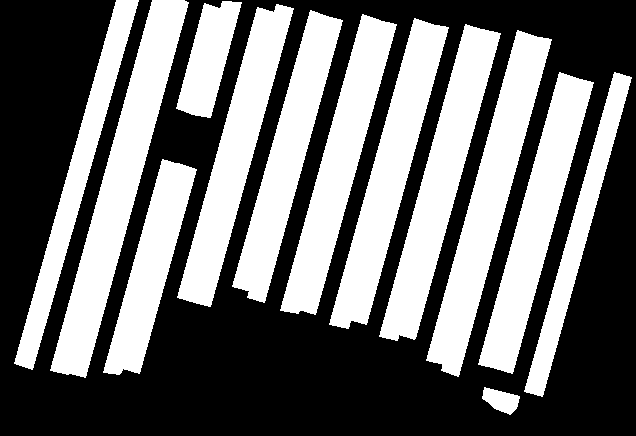parkingspot: (66, 0, 188, 377), (14, 0, 138, 369), (50, 0, 171, 374), (441, 36, 551, 376), (426, 30, 535, 364), (524, 72, 631, 396), (379, 24, 484, 340), (329, 18, 432, 328), (398, 29, 500, 339), (193, 4, 293, 306), (348, 24, 448, 324), (280, 14, 380, 313), (478, 72, 577, 368), (495, 78, 593, 373), (298, 20, 396, 314), (177, 7, 274, 302), (247, 16, 342, 302), (232, 10, 327, 291), (103, 159, 179, 374), (122, 163, 196, 373), (191, 1, 241, 117), (176, 3, 222, 114), (482, 387, 519, 414)
